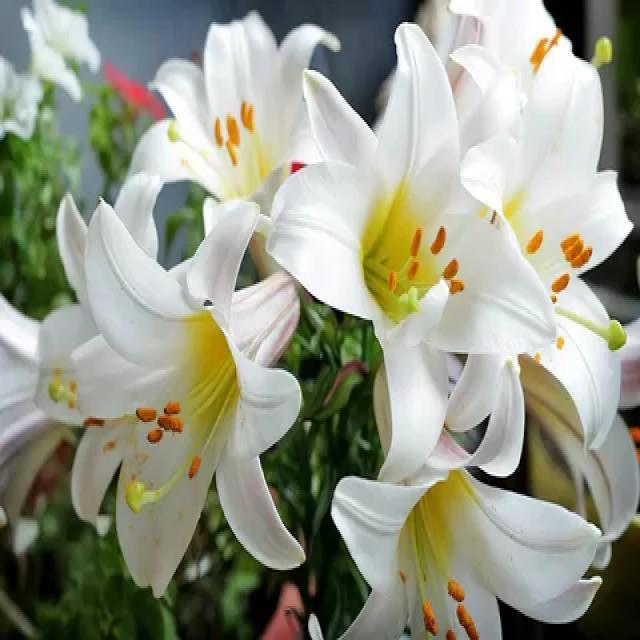lily: (34, 176, 314, 616)
